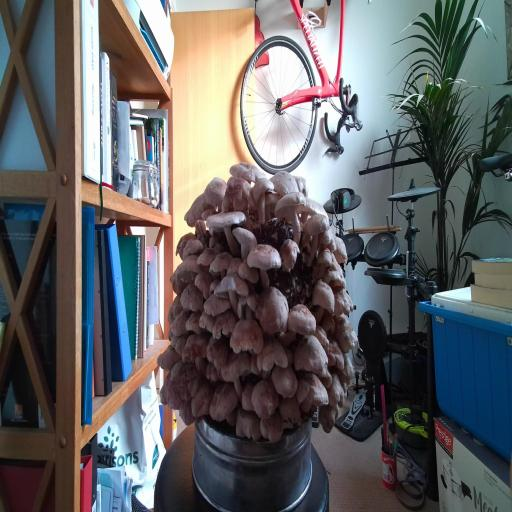Shiitake Mushroom: (148, 346, 214, 427), (202, 257, 262, 323), (235, 227, 294, 294), (289, 199, 338, 266), (196, 373, 250, 431), (201, 194, 249, 258), (214, 336, 260, 399), (241, 369, 289, 429), (269, 179, 311, 247), (324, 306, 367, 363), (253, 281, 292, 340), (174, 186, 224, 231), (184, 373, 222, 428), (244, 168, 279, 226), (166, 247, 210, 293), (304, 273, 340, 327), (292, 330, 331, 379), (198, 329, 234, 381), (227, 213, 263, 262), (251, 335, 293, 374), (271, 231, 307, 276), (149, 338, 188, 379), (199, 168, 231, 214), (186, 262, 222, 302), (225, 157, 271, 187), (296, 371, 329, 412), (230, 255, 267, 291), (265, 165, 304, 199), (229, 319, 264, 354), (286, 300, 318, 338), (169, 223, 200, 262), (332, 351, 361, 392), (258, 408, 287, 448), (199, 291, 236, 321), (222, 176, 252, 211), (296, 194, 331, 224), (235, 407, 264, 443), (159, 292, 189, 325), (181, 332, 211, 364), (208, 245, 234, 281), (210, 308, 238, 341), (271, 365, 298, 399), (168, 306, 194, 340), (314, 309, 344, 338), (180, 280, 205, 313), (167, 323, 191, 357), (165, 267, 189, 299), (286, 171, 315, 197), (326, 338, 348, 371), (176, 396, 197, 430), (278, 394, 301, 424), (177, 236, 207, 259), (261, 189, 280, 225), (322, 261, 346, 289), (318, 403, 339, 434), (194, 245, 221, 269), (221, 407, 246, 432), (334, 287, 354, 317), (194, 310, 220, 333), (328, 372, 345, 407), (237, 294, 258, 320), (317, 228, 337, 252), (203, 359, 220, 387), (333, 234, 348, 264), (242, 381, 255, 411), (185, 312, 202, 334), (226, 256, 243, 275), (194, 219, 206, 239), (302, 233, 311, 254)
